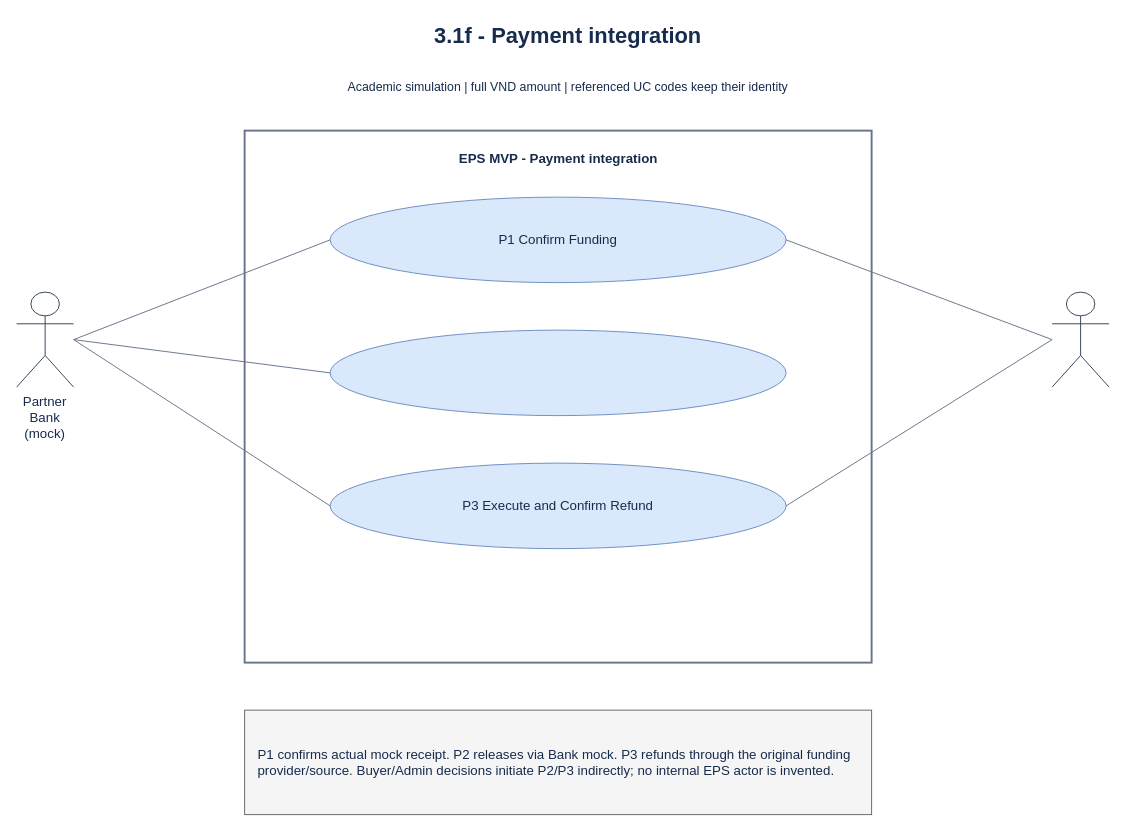
This 1126x831 diagram has some shape labels left out. The shapes that lost their labels are listed below. From the top down, each one's box as (x1, y1, x2, y2) in pixels, then its label:
(1051, 291, 1109, 387): Payment Gateway (mock)
(329, 329, 786, 416): P2 Execute and Confirm Release
